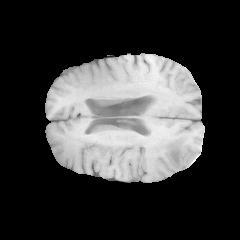glioma: (136, 136, 198, 182)
